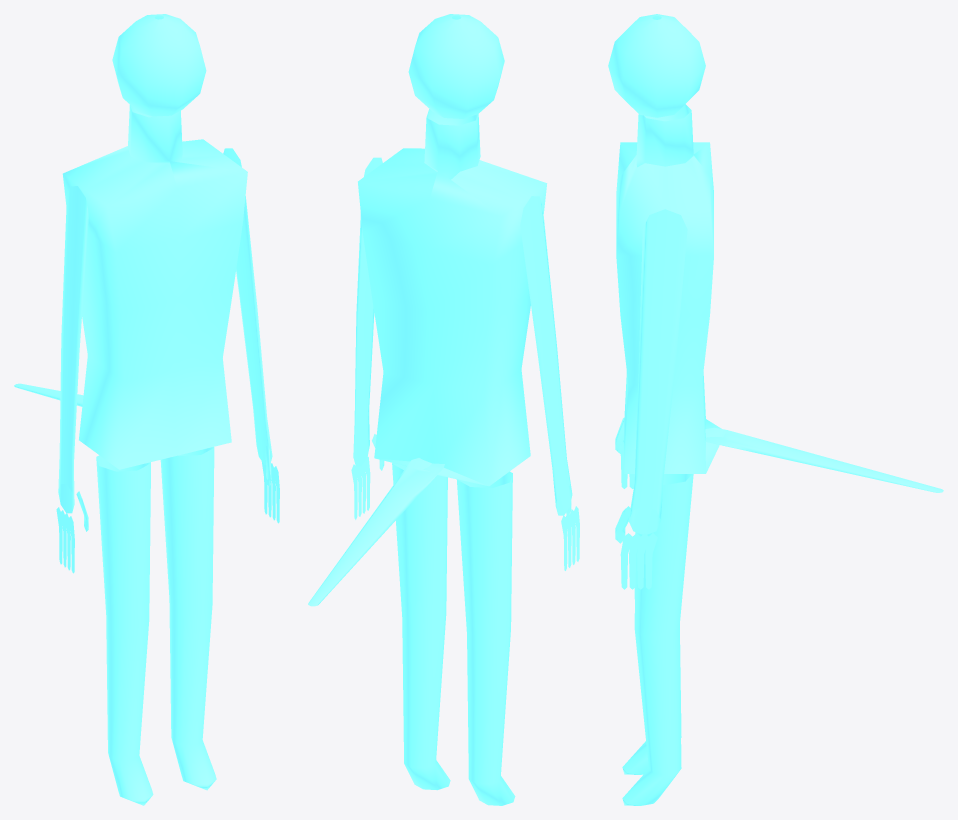
Rendered from char_wire.glb.
3 views of the same model, side by side, from view 1: azimuth 30°, elevation 25°; view 2: azimuth 150°, elevation 25°; view 3: azimuth 270°, elevation 25° (orthographic). The views are drawn at different scales.
Parts seen in each view (by area): view 1: char_wire; view 2: char_wire; view 3: char_wire.
Boxes of the visible parts, x1,y1,x2,y2 form: char_wire: (14,14,279,805); char_wire: (308,14,579,805); char_wire: (608,14,943,805).
Size of the model in its own units: 0.5832 by 2.09 by 0.8235.
